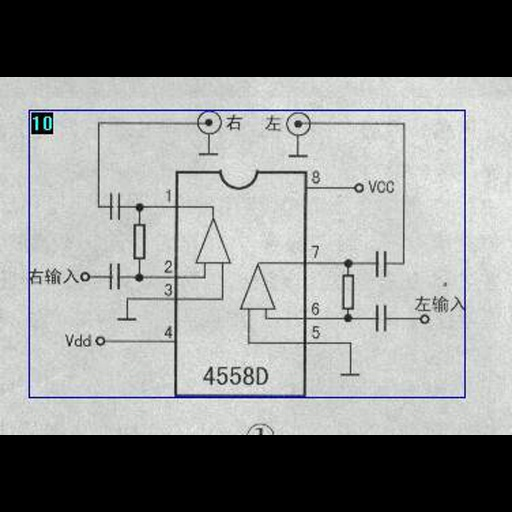capacitor: (371, 249, 393, 284), (103, 262, 126, 291), (372, 302, 392, 333), (107, 190, 124, 221)
firstresistance: (338, 273, 360, 312), (130, 222, 150, 262)
